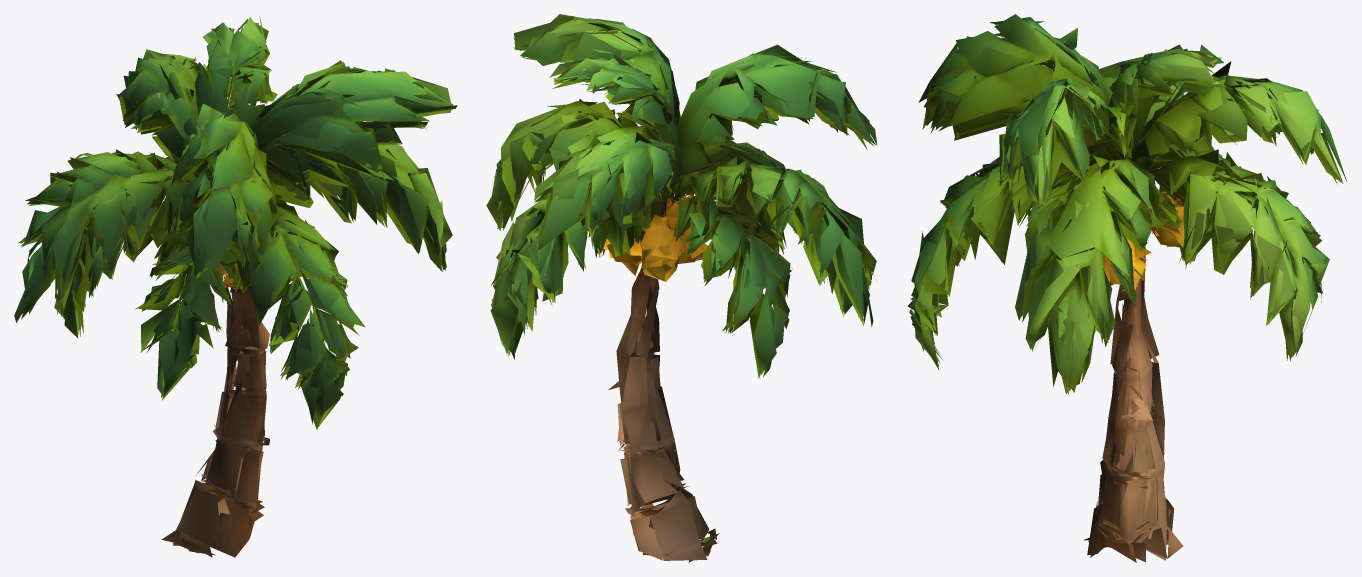
The model's file is biome_palm.glb.
The picture shows the model from 3 angles, left to right: view 1: azimuth 30°, elevation 25°; view 2: azimuth 150°, elevation 25°; view 3: azimuth 270°, elevation 25°; orthographic projection. The views are drawn at different scales.
Parts seen in each view (by area): view 1: Mesh_0; view 2: Mesh_0; view 3: Mesh_0.
Part boxes in pixels (x1=…): Mesh_0: x1=14, y1=16, x2=457, y2=557; Mesh_0: x1=486, y1=14, x2=877, y2=562; Mesh_0: x1=907, y1=14, x2=1346, y2=562.
Size of the model in its own units: 8.95 by 10.51 by 7.77.
Materials: 1 (1 with a texture image).
